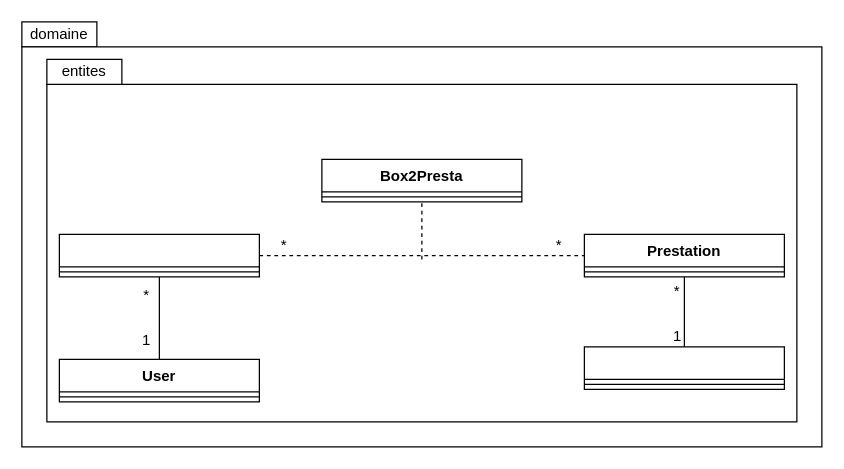
Image size: 844x469. Some labels were removed from this diagram. Each missing label, with the centre of its shape:
"Box" goes at point (158, 255).
"Cathegorie" goes at point (683, 367).
